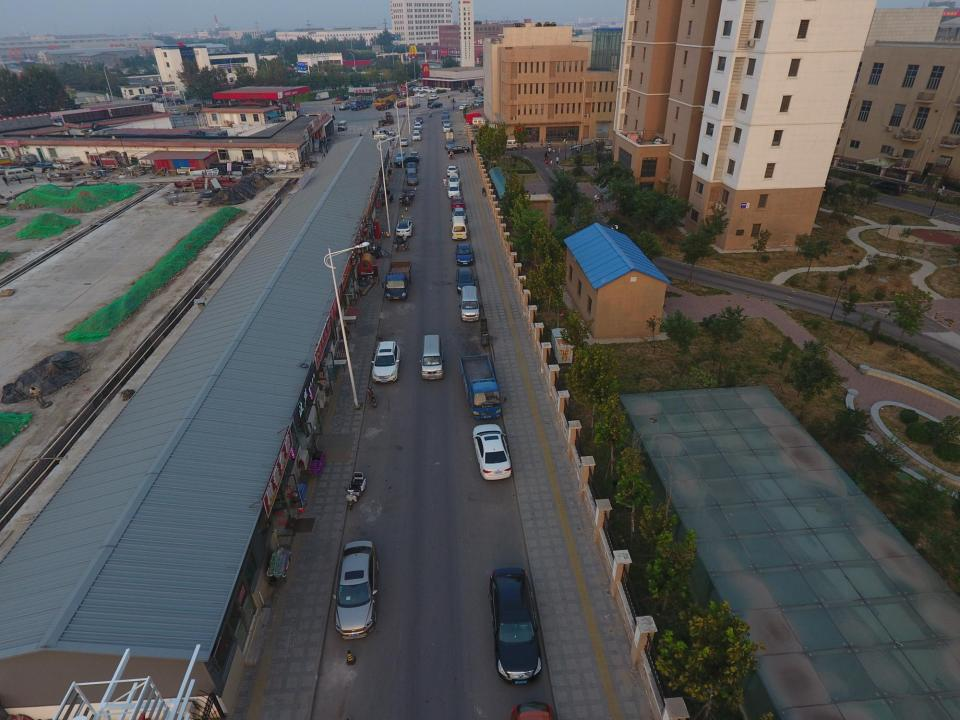car: (488, 567, 544, 686), (332, 540, 378, 640), (471, 424, 512, 481), (371, 341, 401, 383), (869, 180, 908, 197), (455, 267, 477, 294), (455, 243, 474, 265), (451, 207, 468, 224), (395, 220, 413, 236), (394, 156, 419, 167), (447, 145, 469, 154), (450, 196, 464, 210), (447, 184, 461, 198), (448, 174, 460, 188), (375, 129, 396, 136), (446, 165, 459, 176), (374, 138, 392, 145), (406, 162, 416, 174), (396, 151, 406, 162), (444, 140, 454, 150), (274, 114, 288, 121), (411, 132, 421, 141), (428, 102, 442, 108), (338, 103, 350, 110), (443, 124, 452, 133), (410, 152, 420, 160), (413, 122, 422, 130), (414, 116, 423, 124), (442, 115, 450, 124), (459, 104, 471, 110), (412, 127, 422, 134), (396, 102, 407, 108), (400, 138, 408, 146), (443, 119, 451, 127), (442, 111, 449, 117)
truck: (457, 354, 507, 421), (381, 261, 412, 301), (349, 99, 373, 111), (406, 96, 422, 108), (314, 91, 330, 101), (445, 132, 454, 142)
van: (419, 334, 445, 381), (458, 286, 480, 322), (450, 215, 468, 240), (3, 167, 34, 181), (466, 112, 483, 125), (498, 139, 518, 150), (472, 116, 490, 128), (406, 168, 418, 185), (373, 134, 392, 142), (474, 99, 487, 108), (338, 120, 347, 131)
